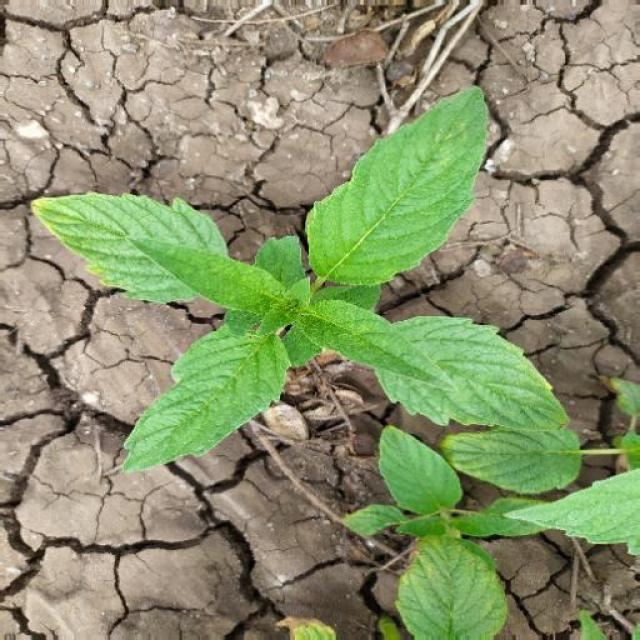crop: (26, 75, 570, 485)
